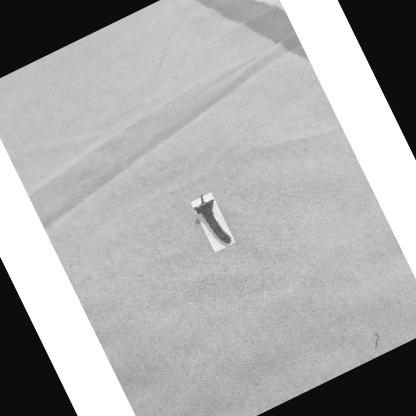buruk: (195, 197, 234, 246)
